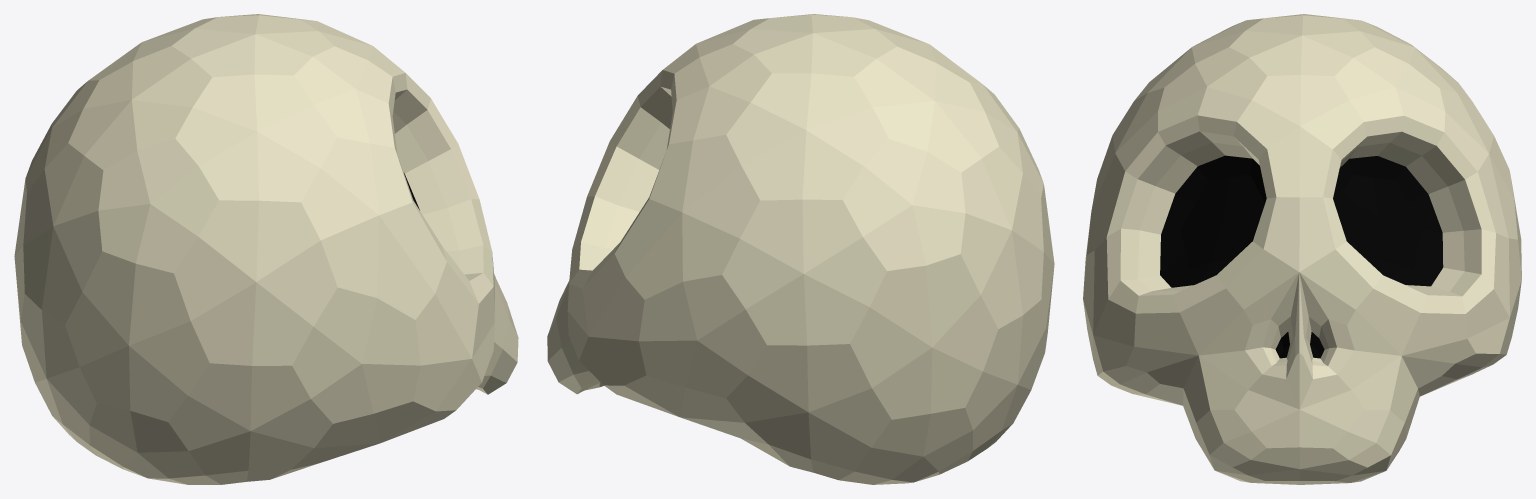
The model's file is crane.fbx.
3 renders of one model, left to right at view 1: azimuth 30°, elevation 25°; view 2: azimuth 150°, elevation 25°; view 3: azimuth 270°, elevation 25°, orthographic. The views are drawn at different scales.
Visible parts, largest first — view 1: autel sacrificiel .001; view 2: autel sacrificiel .001; view 3: autel sacrificiel .001.
Boxes of the visible parts, x1,y1,x2,y2 form: autel sacrificiel .001: [14, 14, 518, 484]; autel sacrificiel .001: [547, 14, 1054, 484]; autel sacrificiel .001: [1083, 14, 1521, 484].
Size of the model in its own units: 19.35 by 15.86 by 17.59.
